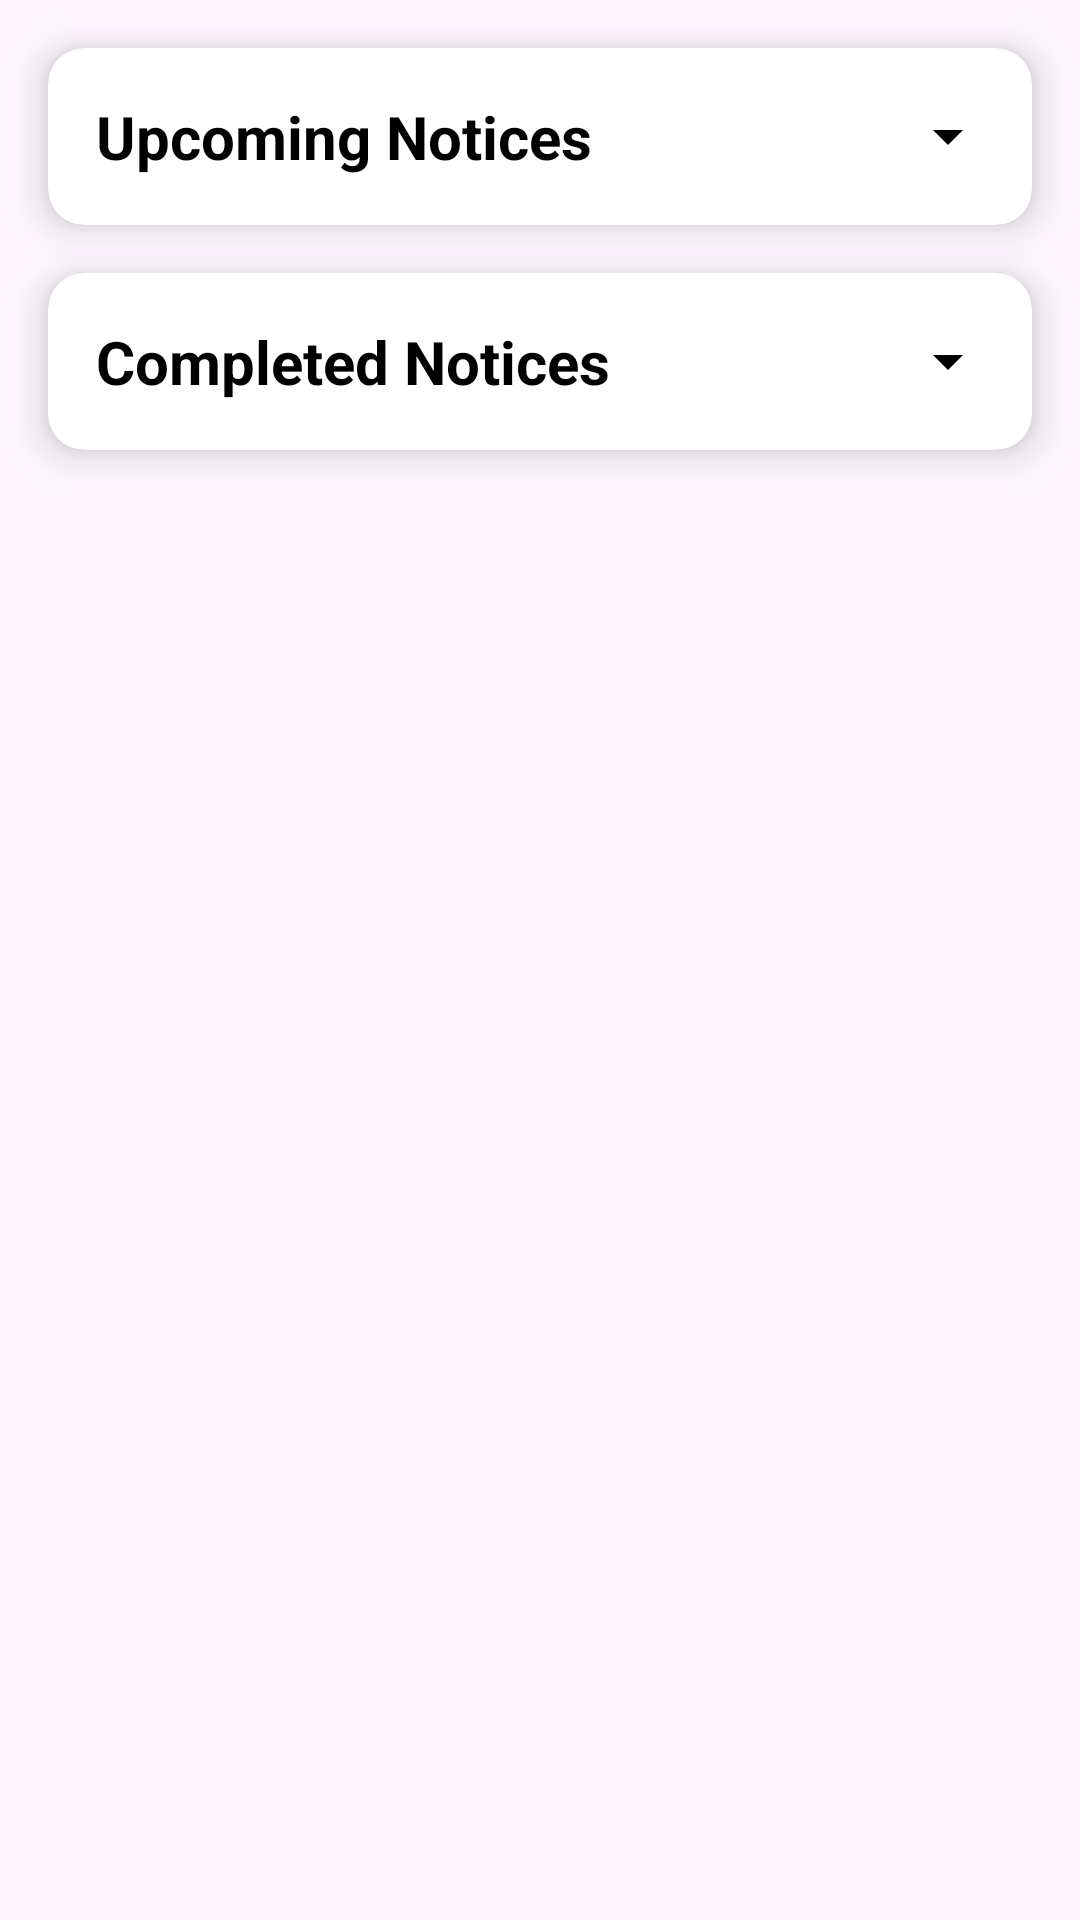

Screen size 1080 × 1920. Icon name, then its center in pixels as [x,y]:
expand more: [948,137], [948,362]
